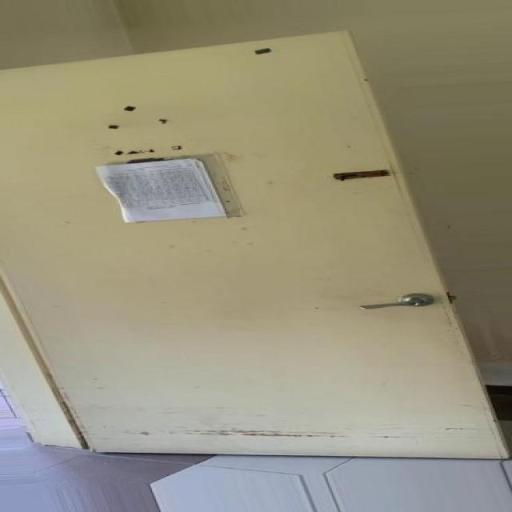door: (2, 29, 508, 458)
